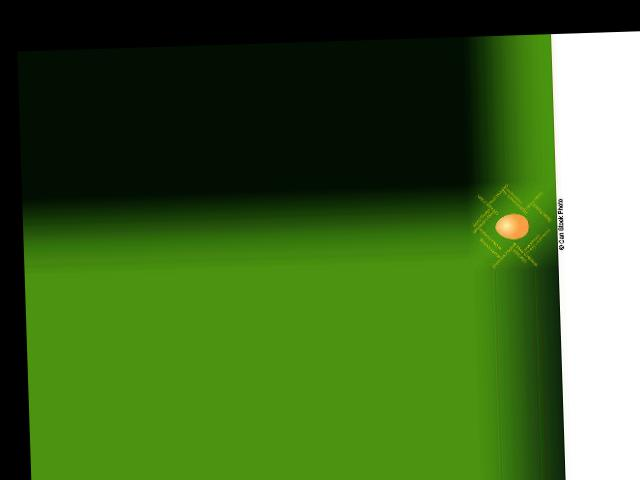egg: (494, 213, 529, 239)
